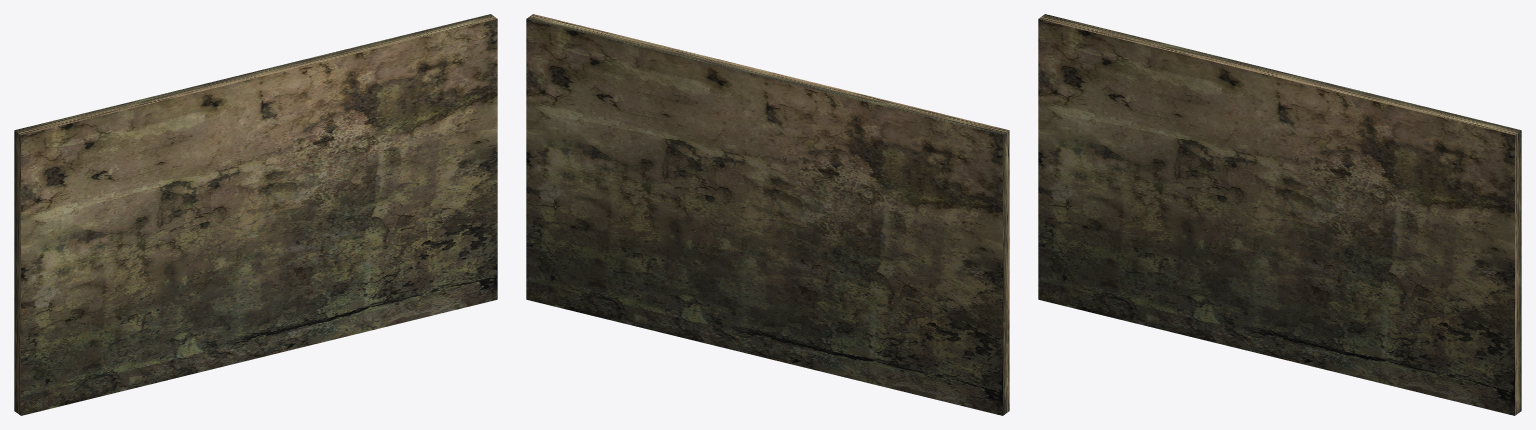
The model's file is DestroyableWalls_800x450.obj.
3 views of the same model, side by side, from view 1: azimuth 30°, elevation 25°; view 2: azimuth 150°, elevation 25°; view 3: azimuth 330°, elevation 25° (orthographic).
Parts seen in each view (by area): view 1: fx_DestroyableWalls_800x450_FRACTURED; view 2: fx_DestroyableWalls_800x450_FRACTURED; view 3: fx_DestroyableWalls_800x450_FRACTURED.
Boxes of the visible parts, bbox=[...] form: fx_DestroyableWalls_800x450_FRACTURED: bbox=[14, 14, 497, 415]; fx_DestroyableWalls_800x450_FRACTURED: bbox=[526, 14, 1009, 415]; fx_DestroyableWalls_800x450_FRACTURED: bbox=[1038, 14, 1521, 415].
Bounding box in the file's own units: 800 × 450 × 20.
2 materials, 2 textured.
